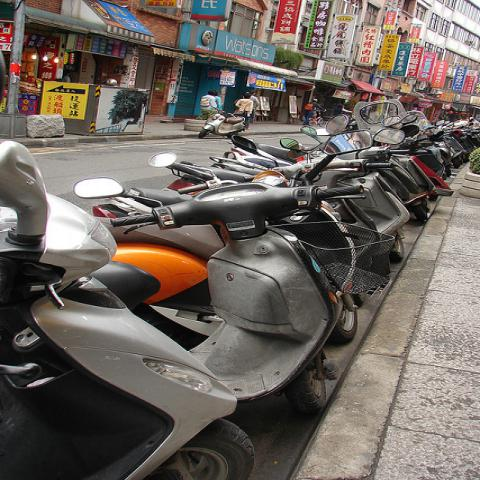motorcycle: (0, 100, 413, 471), (230, 129, 433, 226), (162, 160, 409, 234), (115, 225, 222, 314), (207, 131, 362, 174), (137, 150, 294, 192), (391, 151, 455, 196), (398, 132, 455, 181), (418, 125, 451, 178), (198, 106, 247, 138), (438, 121, 473, 162), (444, 135, 464, 169), (459, 123, 479, 148)
